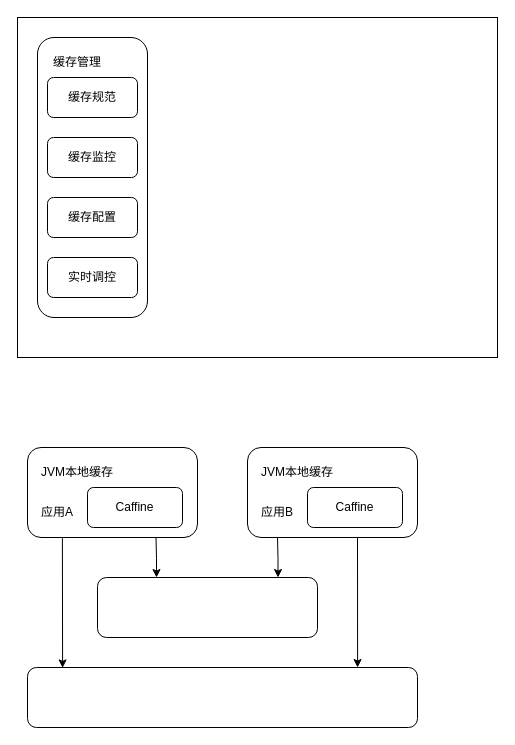
Image size: 515x745. Some labels were removed from this diagram. Here are the shapes that lost their labels. From the top down, the centre of each, then its label:
At [207,607]: "REDIS CLUSTER".
At [222,697]: "MYSQL".
